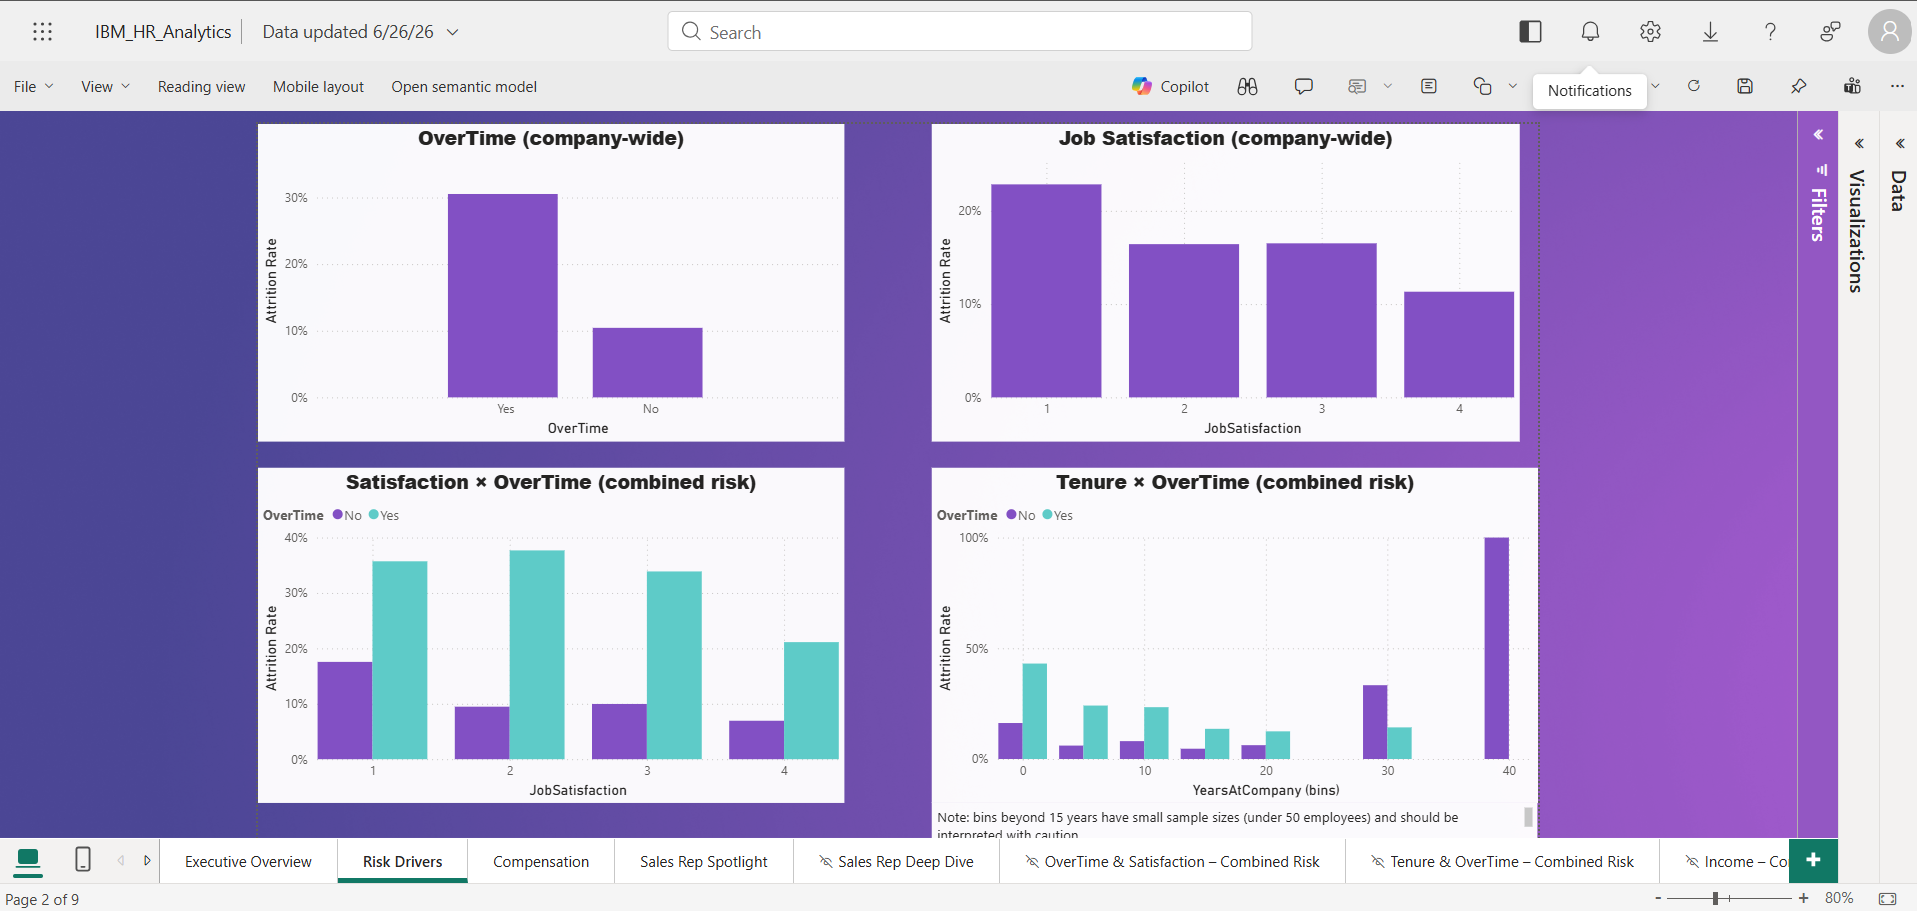

The page's visual inventory and layout, read from the dashboard file:
{"tool":"powerbi","page":{"name":"Risk Drivers","canvas":[1280,720],"ordinal":1},"visuals":[{"type":"columnChart","title":"OverTime (company-wide)","fields":{"Y":["Employee Attrition.Attrition Rate"],"Category":["Employee Attrition.OverTime"]},"box":[0,0,586.2,317.4],"z":0},{"type":"columnChart","title":"Job Satisfaction (company-wide)","fields":{"Y":["Employee Attrition.Attrition Rate"],"Category":["Employee Attrition.JobSatisfaction"]},"box":[673.6,0,587.8,317.4],"z":1000},{"type":"clusteredColumnChart","title":"Tenure × OverTime (combined risk)","fields":{"Category":["Employee Attrition.YearsAtCompany (bins)"],"Y":["Employee Attrition.Attrition Rate"],"Series":["Employee Attrition.OverTime"]},"box":[673.3,343.3,606.7,335],"z":2000},{"type":"clusteredColumnChart","title":"Satisfaction × OverTime (combined risk)","fields":{"Category":["Employee Attrition.JobSatisfaction"],"Series":["Employee Attrition.OverTime"],"Y":["Employee Attrition.Attrition Rate"]},"box":[0,343.3,586.2,335.2],"z":3000},{"type":"textbox","box":[673.6,678.5,605.6,42.1],"z":3001}]}

Visuals, with their boxes on the page's 1280x720 design canvas (x1, y1, x2, y2). These are canvas units, not pixel positions in the 1917x911 screenshot, which may show the page scaled, cropped or inside an application window:
"OverTime (company-wide)" columnChart: (left=0, top=0, right=586, bottom=317)
"Job Satisfaction (company-wide)" columnChart: (left=674, top=0, right=1261, bottom=317)
"Tenure × OverTime (combined risk)" clusteredColumnChart: (left=673, top=343, right=1280, bottom=678)
"Satisfaction × OverTime (combined risk)" clusteredColumnChart: (left=0, top=343, right=586, bottom=678)
textbox: (left=674, top=678, right=1279, bottom=721)
